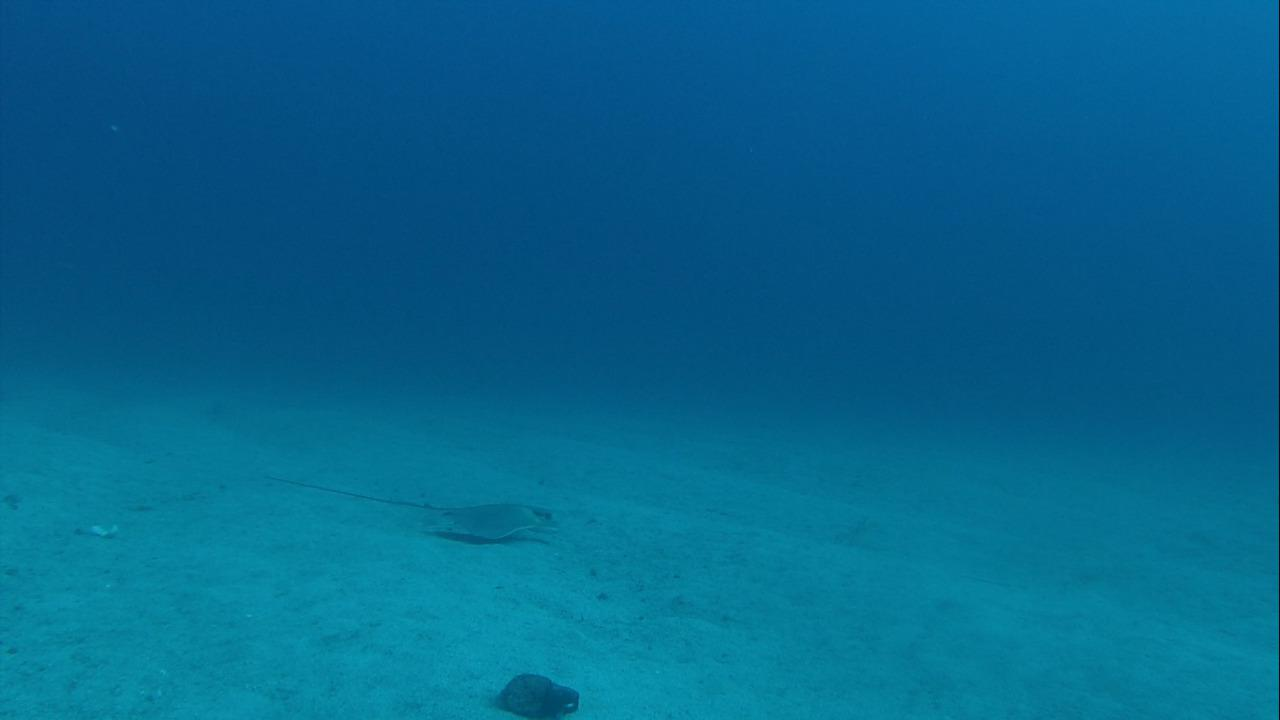myliobatis: (264, 470, 560, 550)
